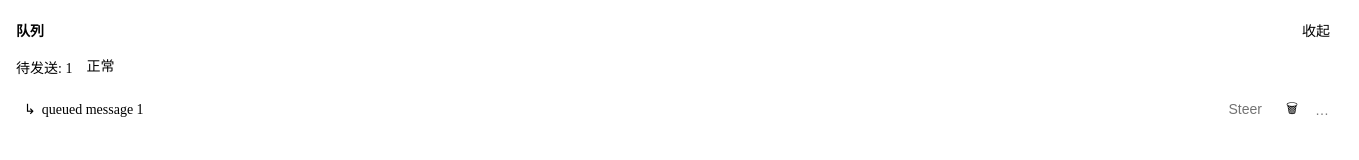
ComposerQueue › supports collapsing and expanding the queue panel
Expected: the text "queued message 1" is shown, x1=42 y1=102 x2=144 y2=118
Step 1. Click the button with aria-label "收起队列" → point(1316, 30), box x1=1290 y1=16 x2=1342 y2=44
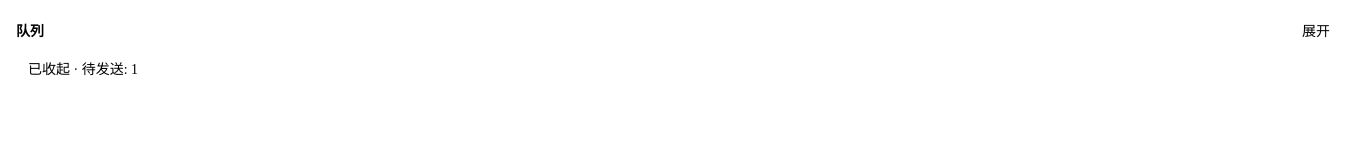
Now the text "queued message 1" is gone
Now the text "已收起 · 待发送: 1" is shown, box x1=28 y1=62 x2=138 y2=77
Step 2. Click the button with aria-label "展开队列" → point(1316, 30), box x1=1290 y1=16 x2=1342 y2=44
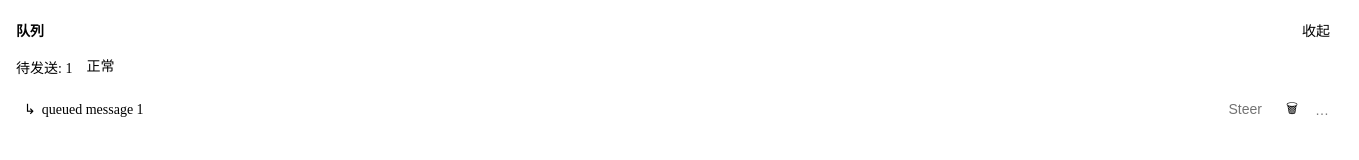
Now the text "queued message 1" is shown, box x1=42 y1=102 x2=144 y2=118
